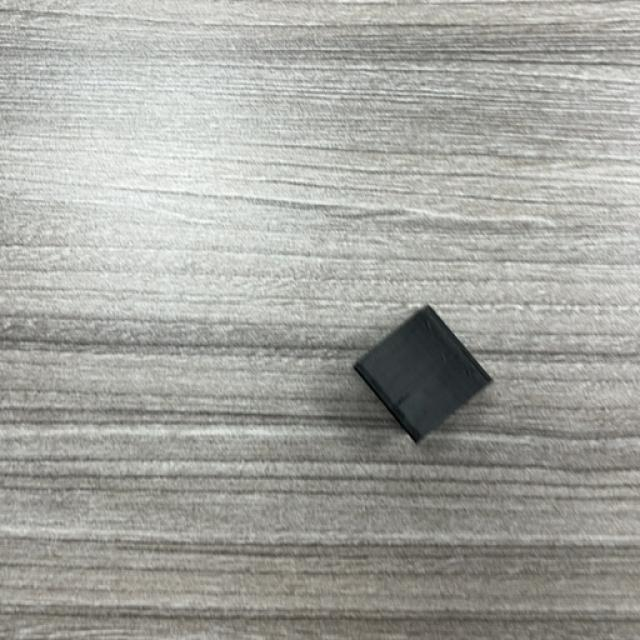Negro: (352, 306, 494, 446)
